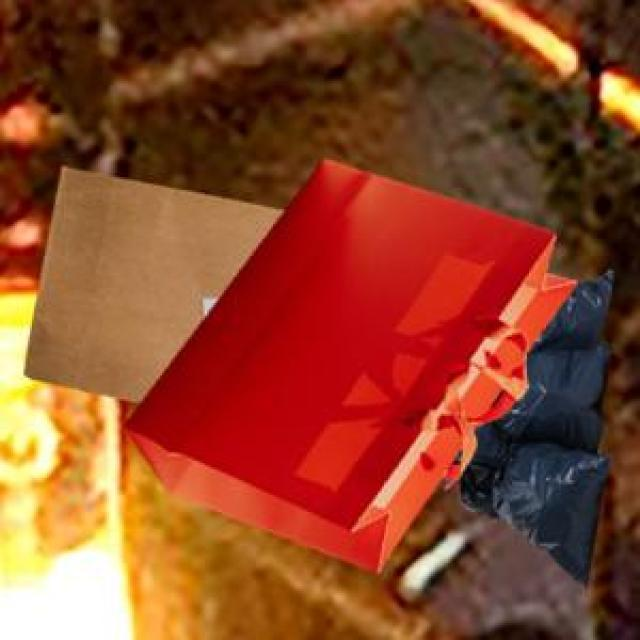miscellaneous trash: (448, 265, 607, 582)
paper: (120, 156, 572, 568), (21, 162, 282, 399)
